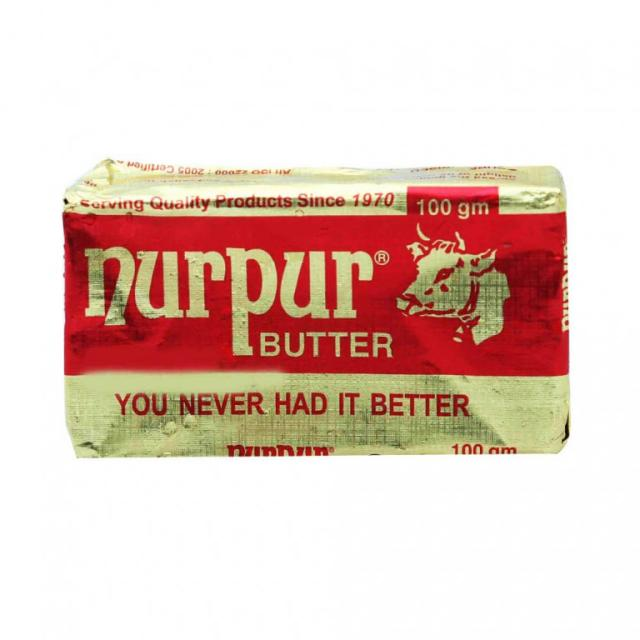butter: (62, 158, 570, 456)
